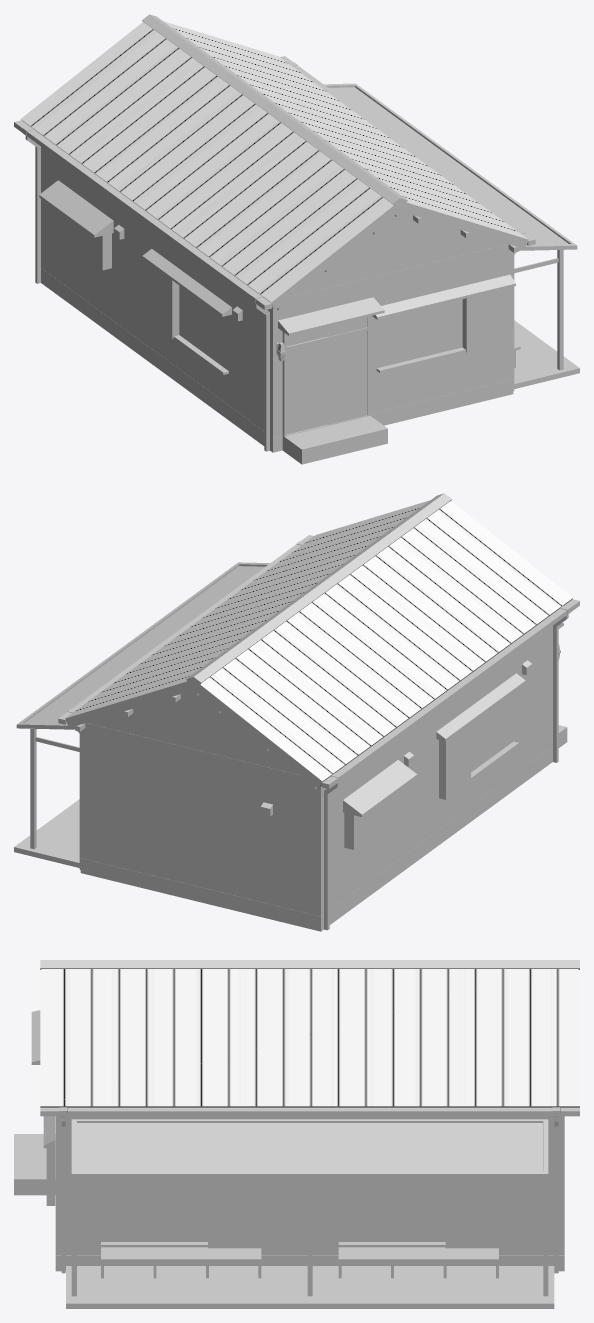
File: House_2021_D.fbx
3 renders of one model, top to bottom at view 1: azimuth 30°, elevation 25°; view 2: azimuth 150°, elevation 25°; view 3: azimuth 270°, elevation 25°, orthographic. The views are drawn at different scales.
Parts seen in each view (by area): view 1: House_2021_D; view 2: House_2021_D; view 3: House_2021_D.
Boxes of the visible parts, x1,y1,x2,y2 form: House_2021_D: (14,14,579,464); House_2021_D: (14,493,579,931); House_2021_D: (14,960,579,1308).
Size of the model in its own units: 692 by 461 by 953.
